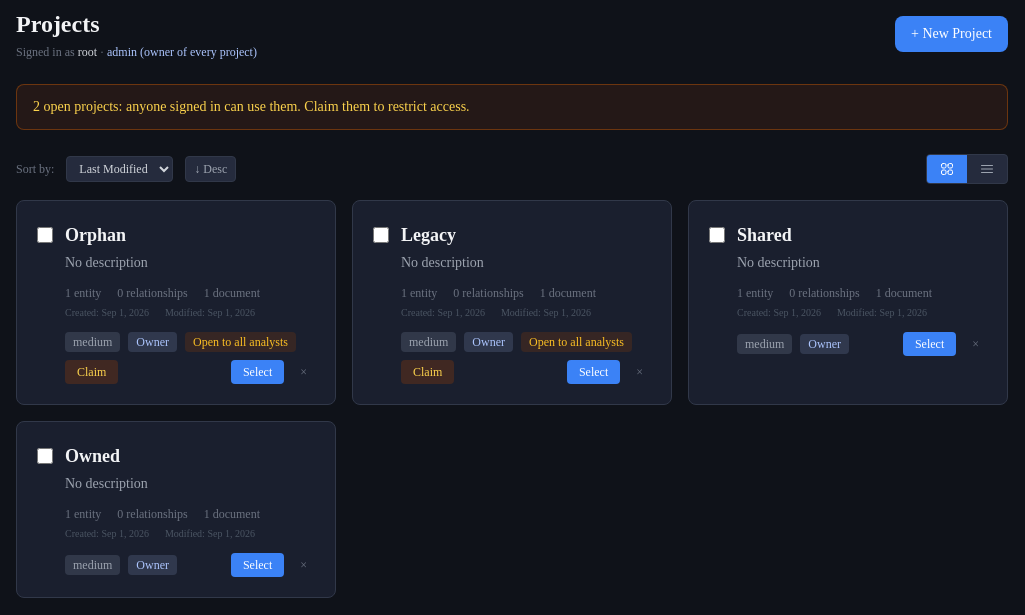
Test case: open projects for an admin › claims a project and re-reads the list
Expected: the heading "Legacy" is shown, [401,225,456,245]
Step 1. Click the button with aria-label "Claim Legacy" → (428,372), box [401,360,454,384]
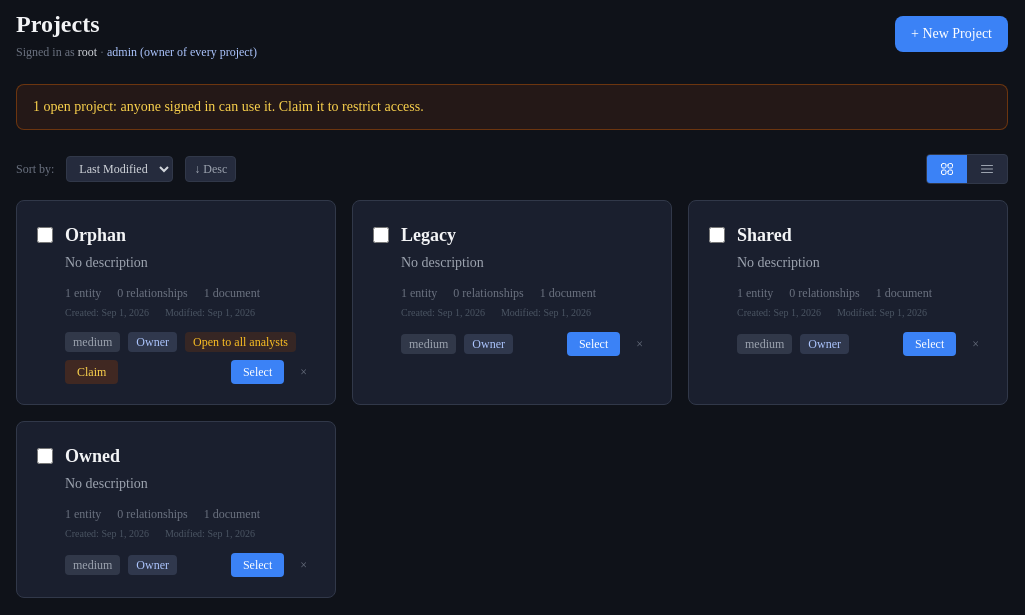
Expected: the message shows "1 open project", [33,99,424,114]
